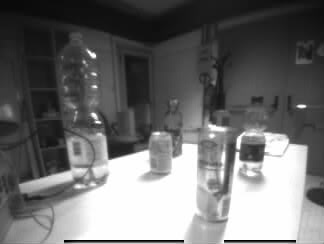Bottle: (56, 31, 110, 184), (241, 94, 264, 177), (166, 98, 182, 153)
Tin can: (195, 125, 234, 224), (147, 130, 173, 174), (210, 109, 231, 125)
